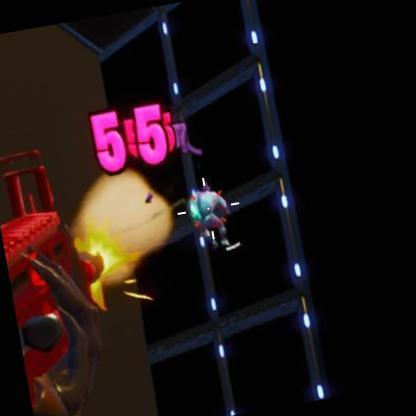person: (186, 177, 236, 255)
